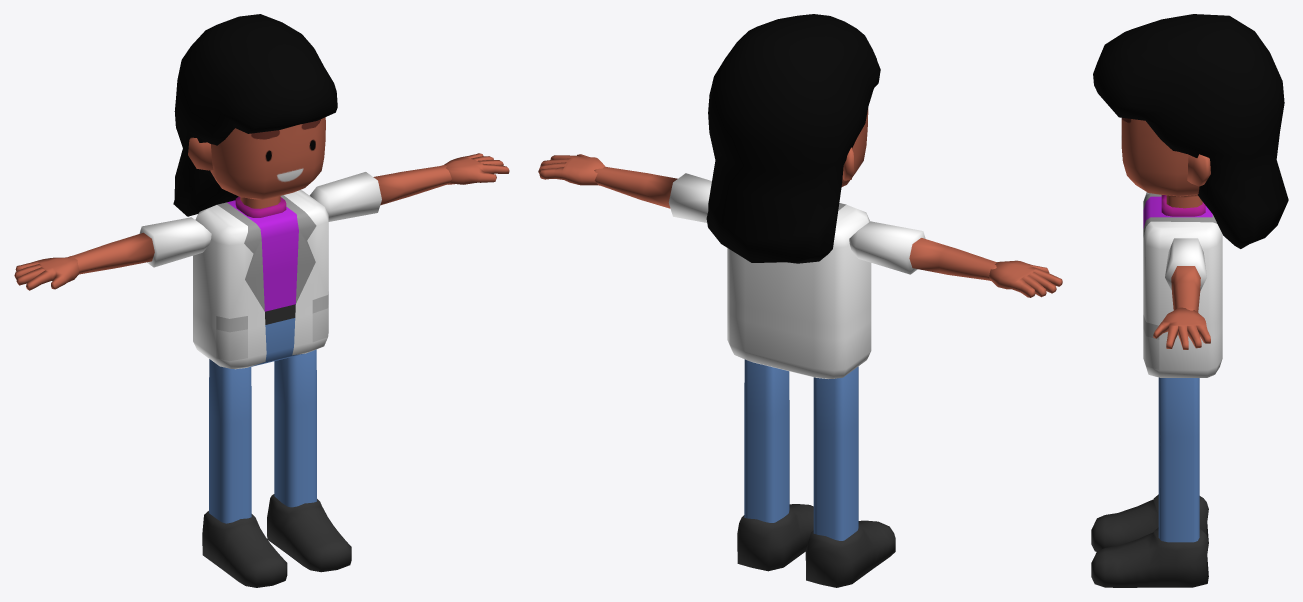
The model's file is NPC_Black02_BlackHair02.gltf.
3 renders of one model, left to right at view 1: azimuth 30°, elevation 25°; view 2: azimuth 150°, elevation 25°; view 3: azimuth 270°, elevation 25°, orthographic. The views are drawn at different scales.
Visible parts, largest first — view 1: NPC_Corpo_Black2_BlackHair.002; view 2: NPC_Corpo_Black2_BlackHair.002; view 3: NPC_Corpo_Black2_BlackHair.002.
Boxes of the visible parts, box(x1,y1,x2,y2) form: NPC_Corpo_Black2_BlackHair.002: box(14, 14, 509, 587); NPC_Corpo_Black2_BlackHair.002: box(538, 14, 1062, 587); NPC_Corpo_Black2_BlackHair.002: box(1091, 14, 1288, 587).
Size of the model in its own units: 2.31 by 2.33 by 0.7777.
1 material, 1 textured.
